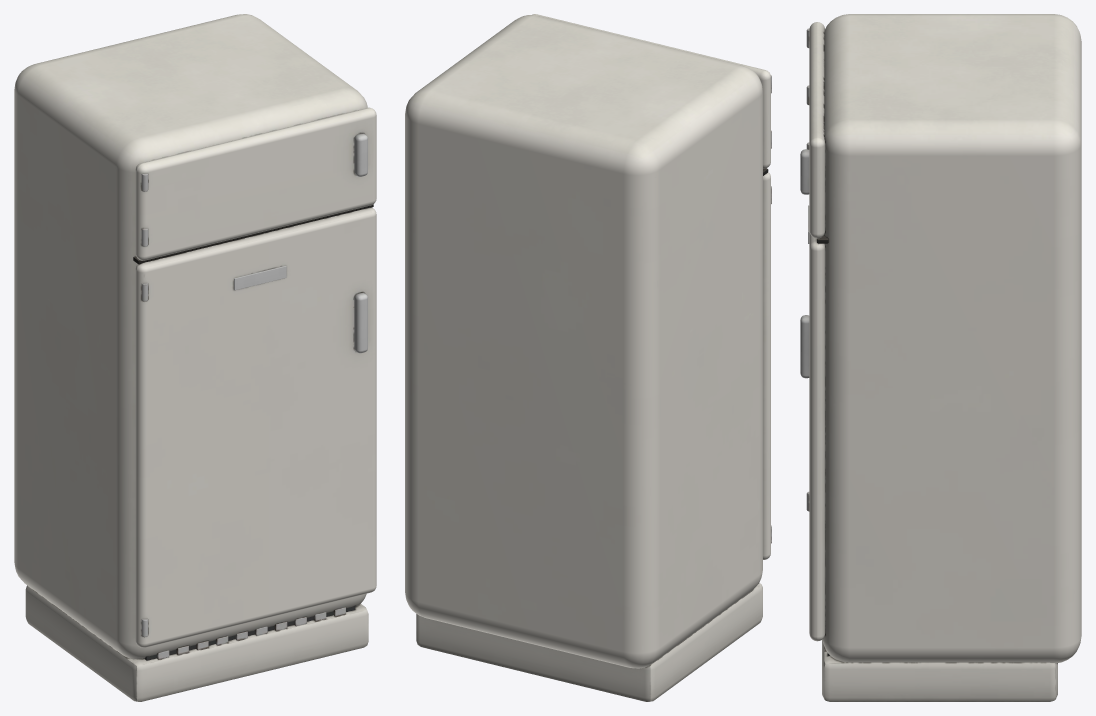
File: fridge.glb
The picture shows the model from 3 angles, left to right: view 1: azimuth 30°, elevation 25°; view 2: azimuth 150°, elevation 25°; view 3: azimuth 270°, elevation 25°; orthographic projection. The views are drawn at different scales.
Parts seen in each view (by area): view 1: fridge; view 2: fridge; view 3: fridge.
Boxes of the visible parts, bbox=[...] form: fridge: bbox=[14, 14, 376, 701]; fridge: bbox=[405, 14, 771, 701]; fridge: bbox=[800, 14, 1081, 701].
Size of the model in its own units: 0.76 by 1.62 by 0.715.
1 material, 1 textured.
